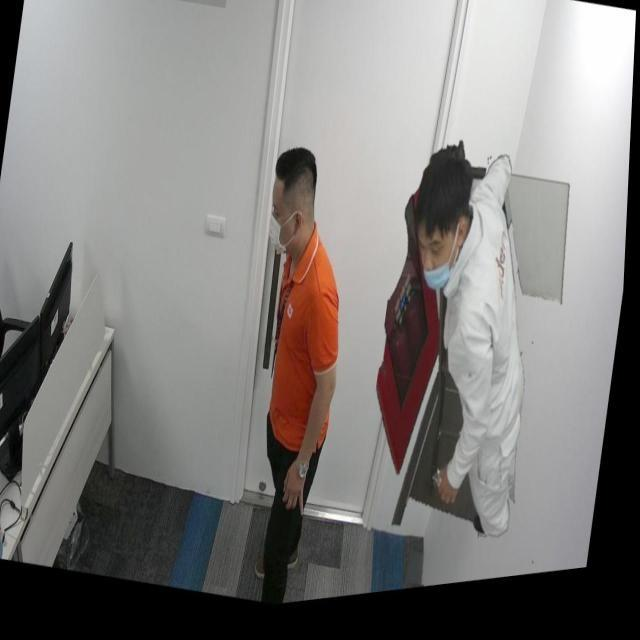hairnet: (415, 231, 458, 305)
